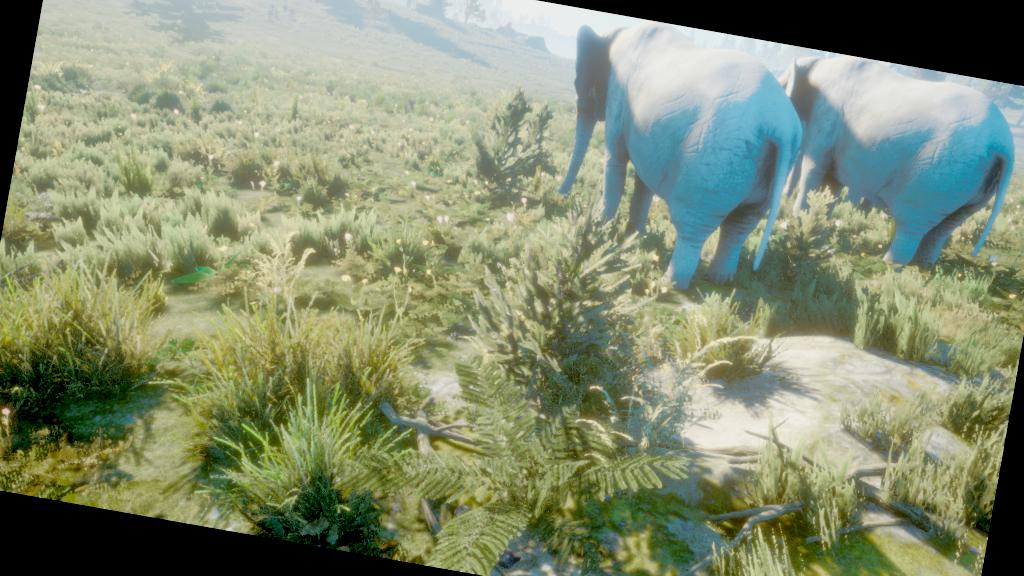elephant: (524, 7, 822, 324), (740, 42, 1023, 296)
